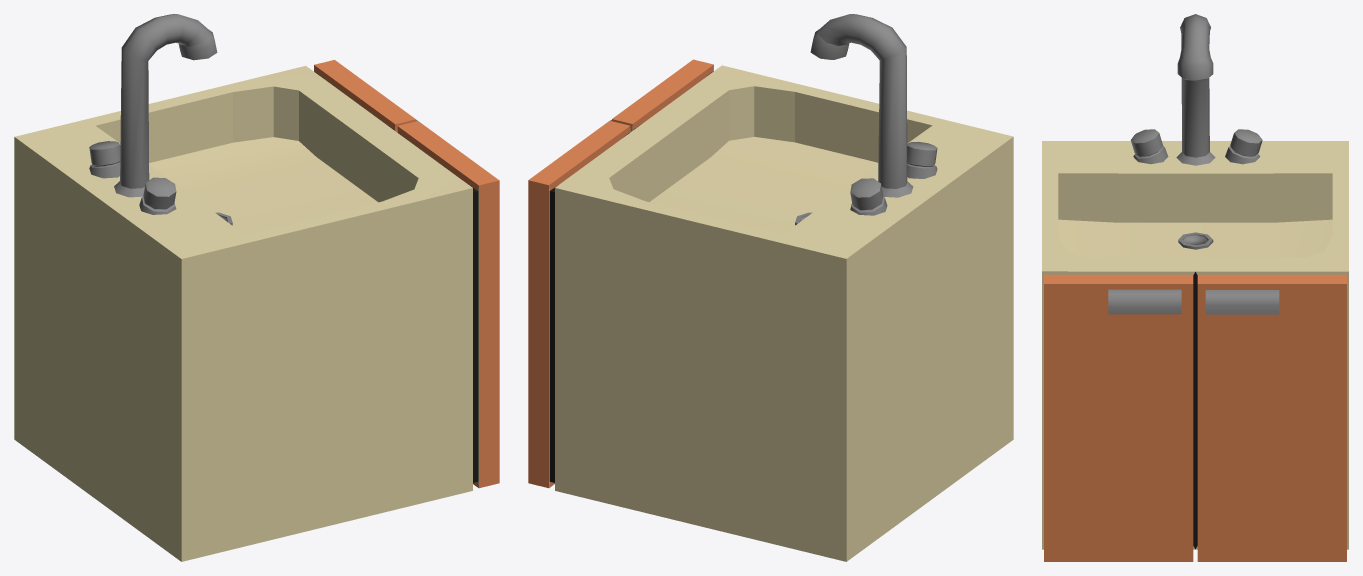
The model's file is SM_Sink_02 1.fbx.
3 views of the same model, side by side, from view 1: azimuth 30°, elevation 25°; view 2: azimuth 150°, elevation 25°; view 3: azimuth 270°, elevation 25° (orthographic). The views are drawn at different scales.
Visible parts, largest first — view 1: SM_Sink_02; view 2: SM_Sink_02; view 3: SM_Sink_02.
Boxes of the visible parts, x1,y1,x2,y2 form: SM_Sink_02: (14,14,499,561); SM_Sink_02: (528,14,1013,561); SM_Sink_02: (1042,14,1348,561).
Bounding box in the file's own units: 1.15 × 1 × 1.54.
